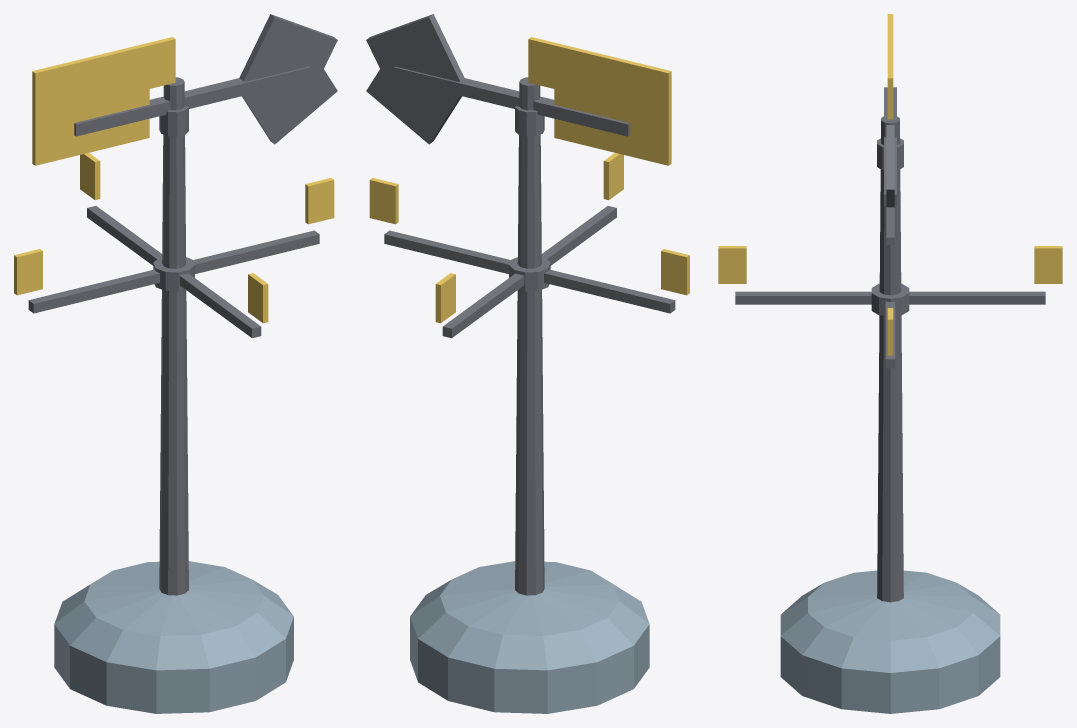
File: animated-mechanisms-kit-weather-vane-46791e59__24627.glb
3 renders of one model, left to right at view 1: azimuth 30°, elevation 25°; view 2: azimuth 150°, elevation 25°; view 3: azimuth 270°, elevation 25°, orthographic. The views are drawn at different scales.
Visible parts, largest first — view 1: weather-vane, vane/accent, vane/iron; view 2: weather-vane, vane/accent, vane/iron; view 3: weather-vane, vane/iron, vane/accent.
Part boxes in pixels (left/top/right/bottom): weather-vane: left=14, top=77, right=334, bottom=713; vane/accent: left=32, top=37, right=175, bottom=165; vane/iron: left=74, top=14, right=337, bottom=144; weather-vane: left=369, top=77, right=689, bottom=713; vane/accent: left=528, top=37, right=671, bottom=165; vane/iron: left=366, top=14, right=629, bottom=144; weather-vane: left=718, top=115, right=1062, bottom=713; vane/iron: left=877, top=87, right=903, bottom=244; vane/accent: left=887, top=14, right=893, bottom=119.
Size of the model in its own units: 1.23 by 2.3 by 1.22.
